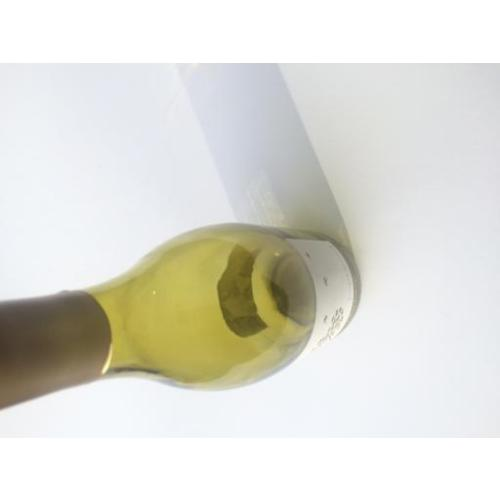glass: (0, 224, 361, 394)
